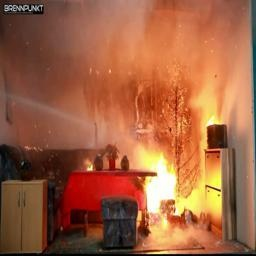fire: (125, 135, 192, 219)
smoke: (54, 4, 172, 114)
